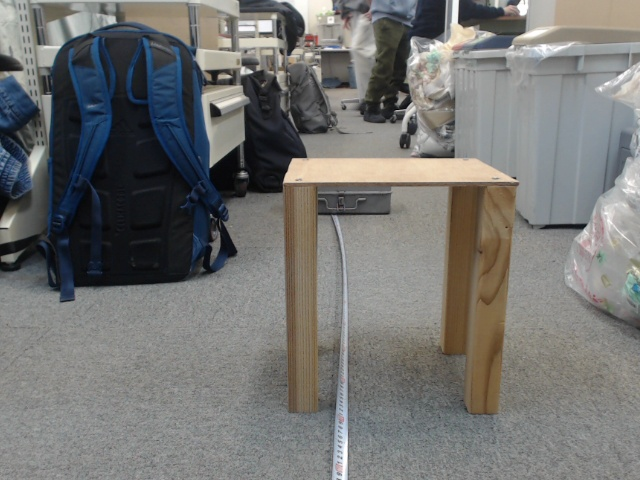desk: (287, 128, 517, 408)
